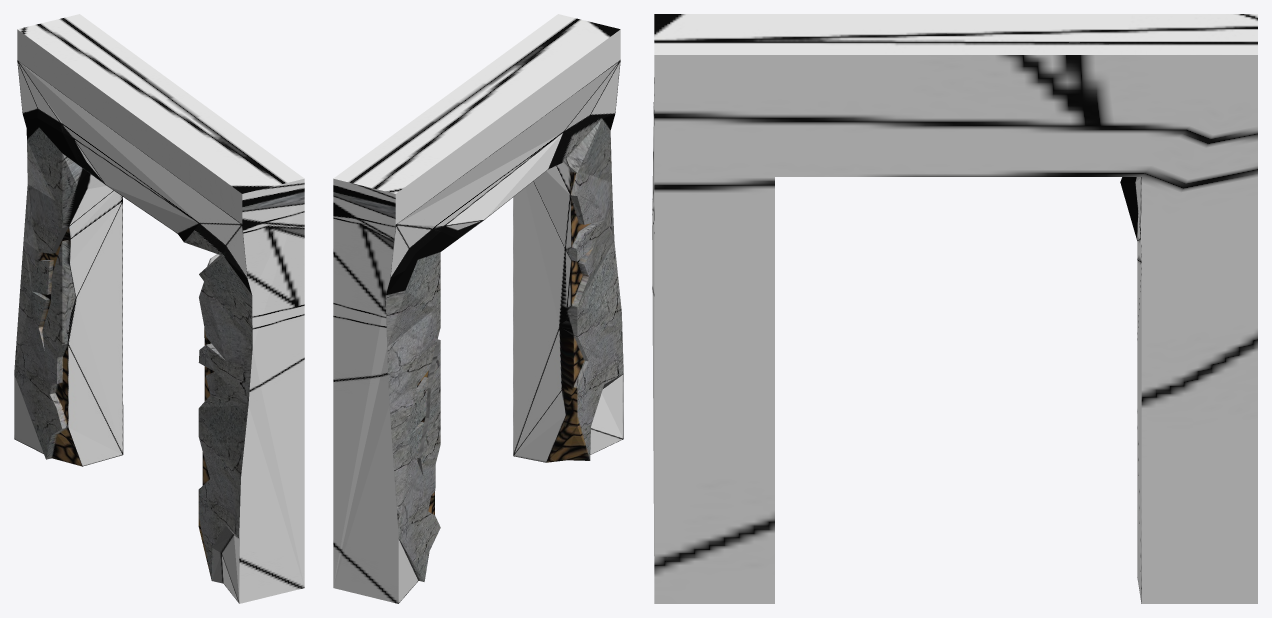
The model's file is EspacioPirateriaPuertaInteriorAltoNI.gltf.
The picture shows the model from 3 angles, left to right: view 1: azimuth 30°, elevation 25°; view 2: azimuth 150°, elevation 25°; view 3: azimuth 270°, elevation 25°; orthographic projection. The views are drawn at different scales.
Parts seen in each view (by area): view 1: Cubo.5; view 2: Cubo.5; view 3: Cubo.5.
Boxes of the visible parts, x1,y1,x2,y2 form: Cubo.5: [14, 14, 304, 603]; Cubo.5: [333, 14, 623, 603]; Cubo.5: [652, 14, 1257, 603].
Bounding box in the file's own units: 0.3354 × 2 × 2.
1 material, 1 textured.
